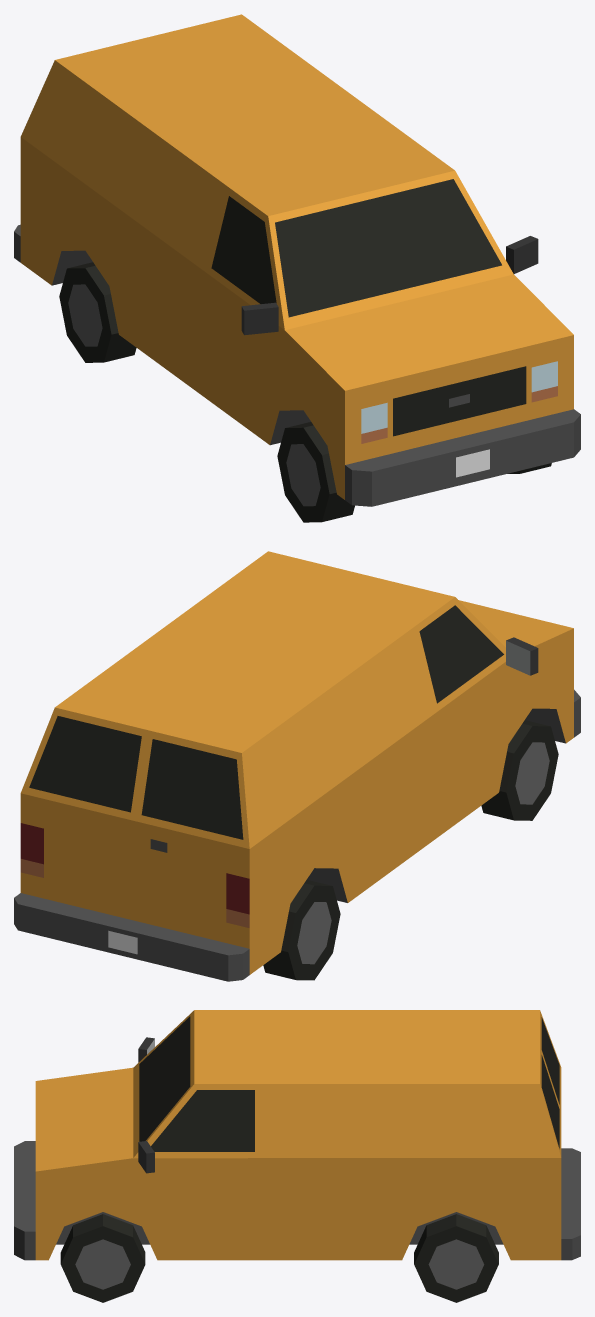
Rendered from Veh_Van_01_Yellow.obj.
3 views of the same model, one above another, from view 1: azimuth 30°, elevation 25°; view 2: azimuth 150°, elevation 25°; view 3: azimuth 270°, elevation 25° (orthographic). The views are drawn at different scales.
Bounding box in the file's own units: 1.38 × 1.16 × 2.84.
